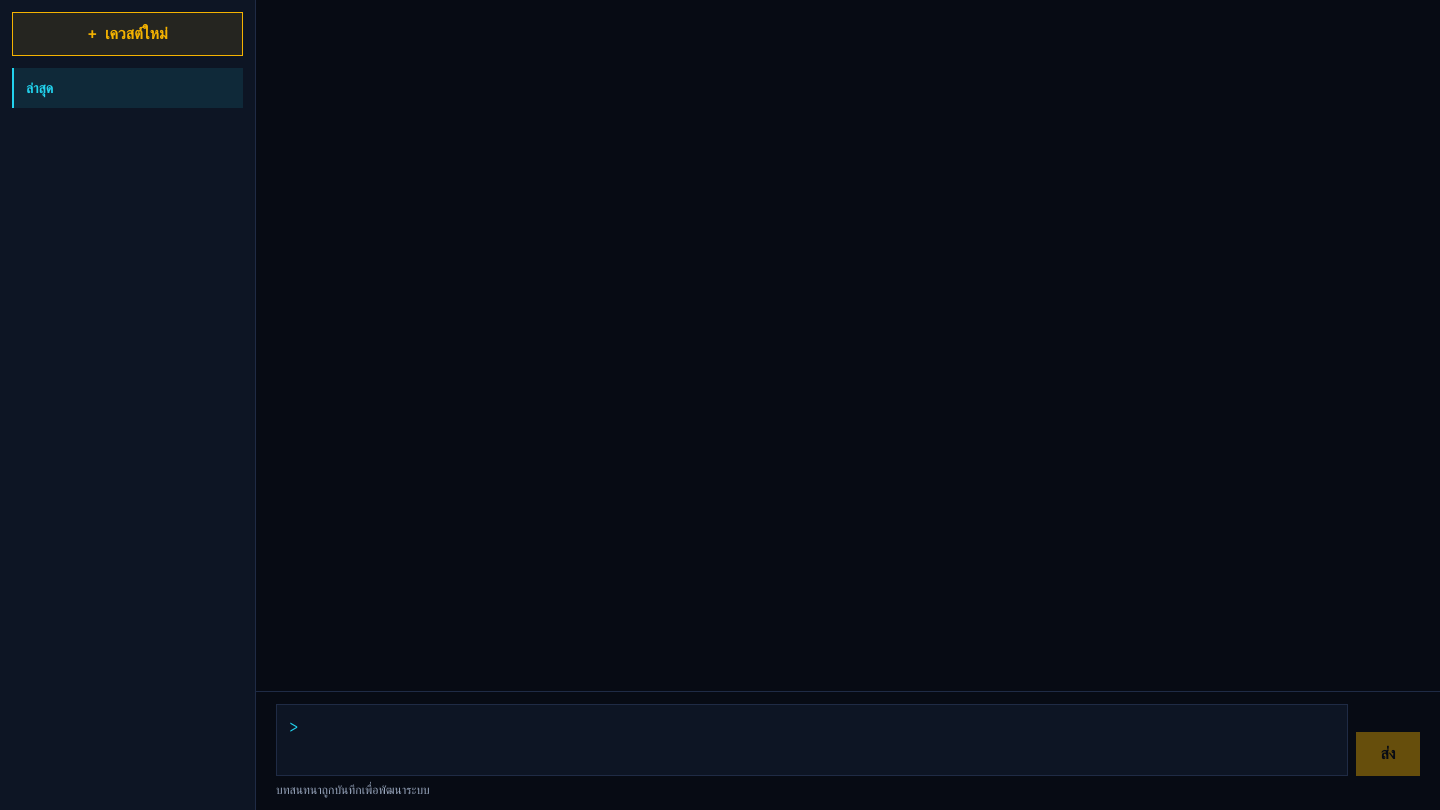
ChatPage › a message sent during history load is not wiped when the history resolves
Type "คำถามใหม่" into the text box named "ข้อความ". click: [823, 740]
box: [299,705,1347,775]
Then press Enter
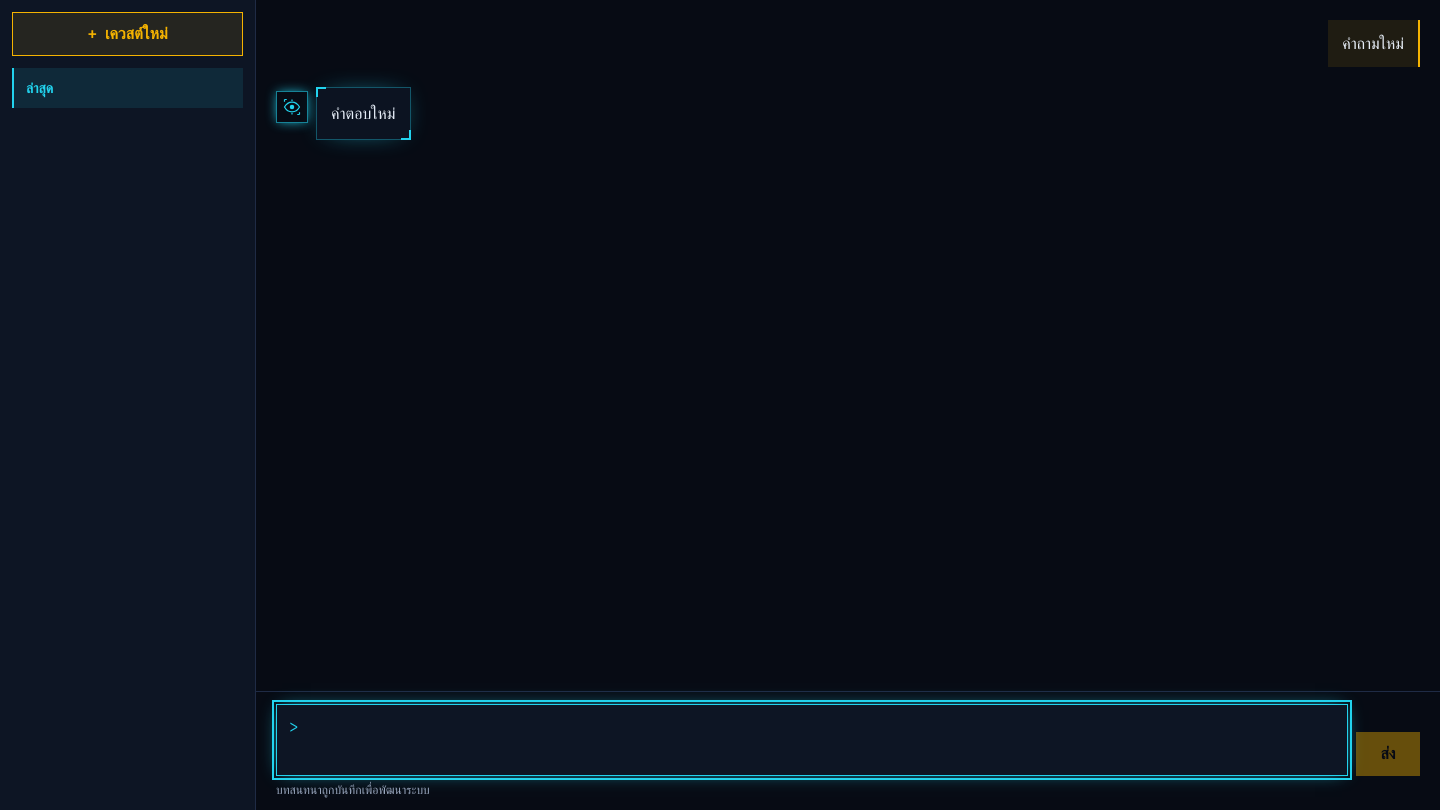
Expected: the text "คำถามใหม่" is shown, [1342,30,1404,57]
Expected: the text "คำตอบใหม่" is shown, [331,100,396,127]
